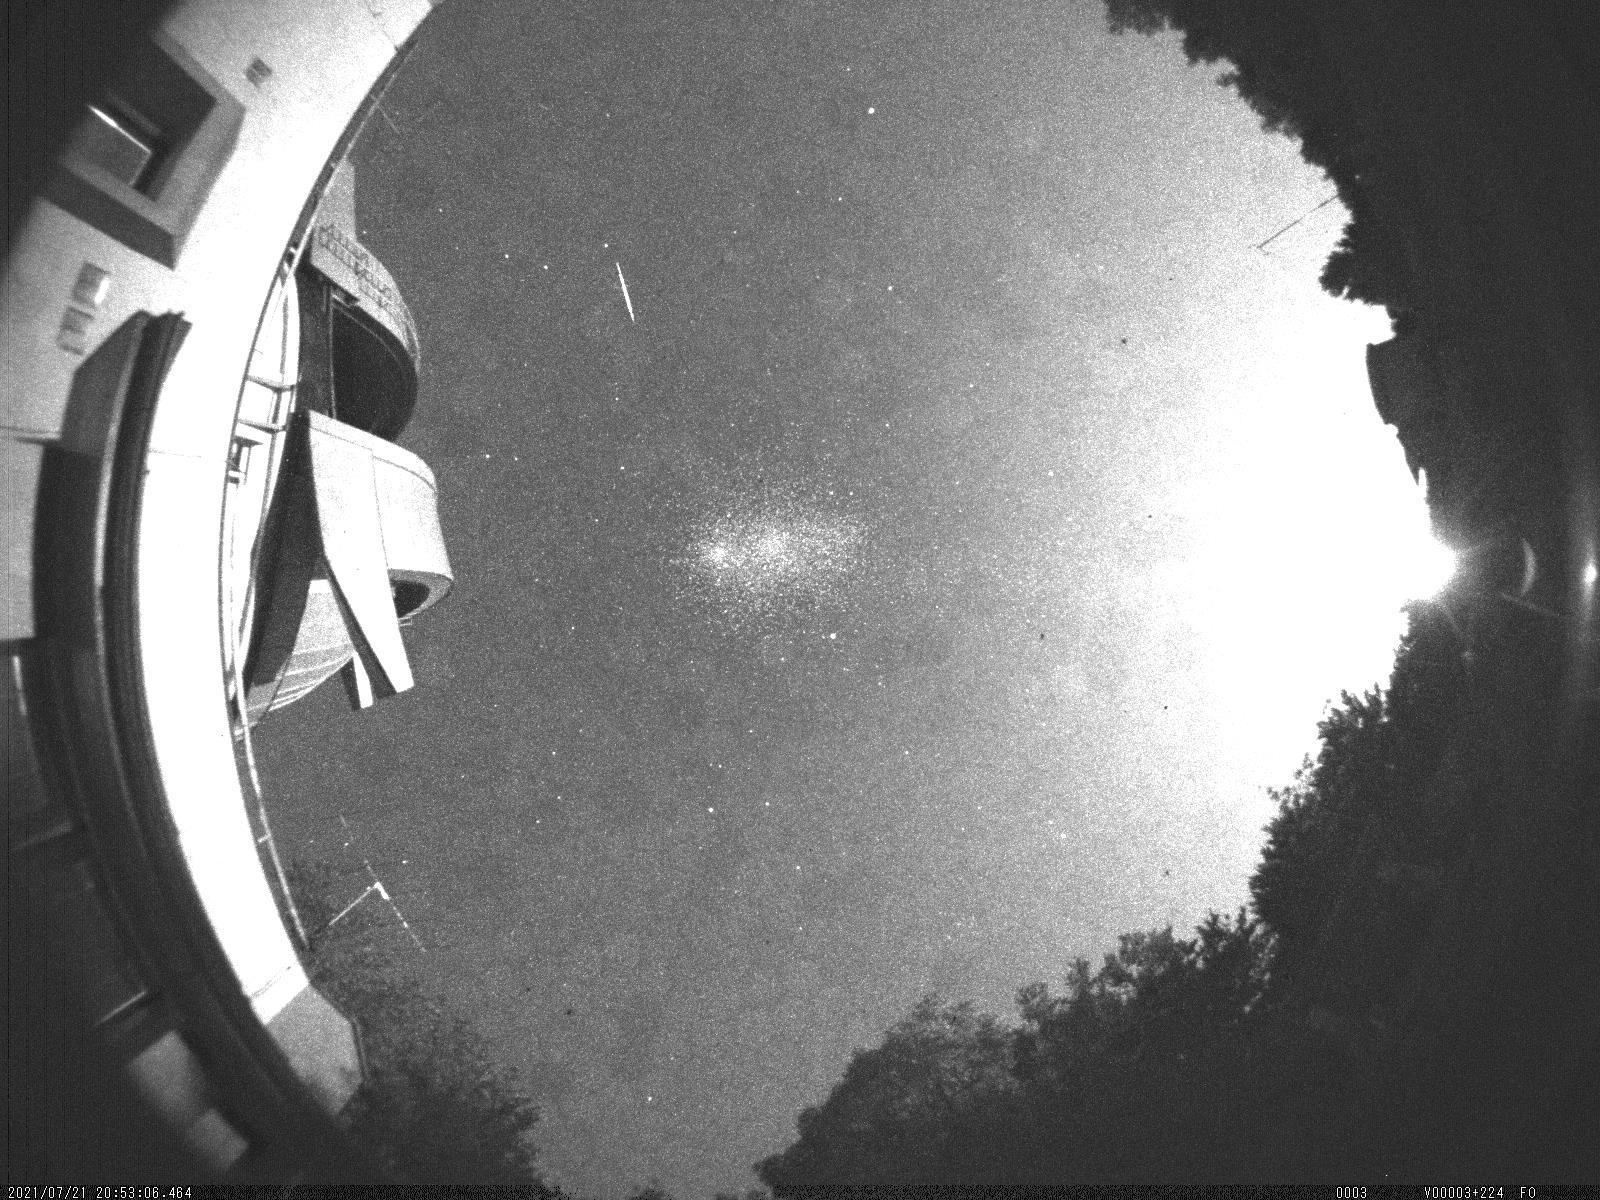Meteor: (610, 252, 649, 330)
